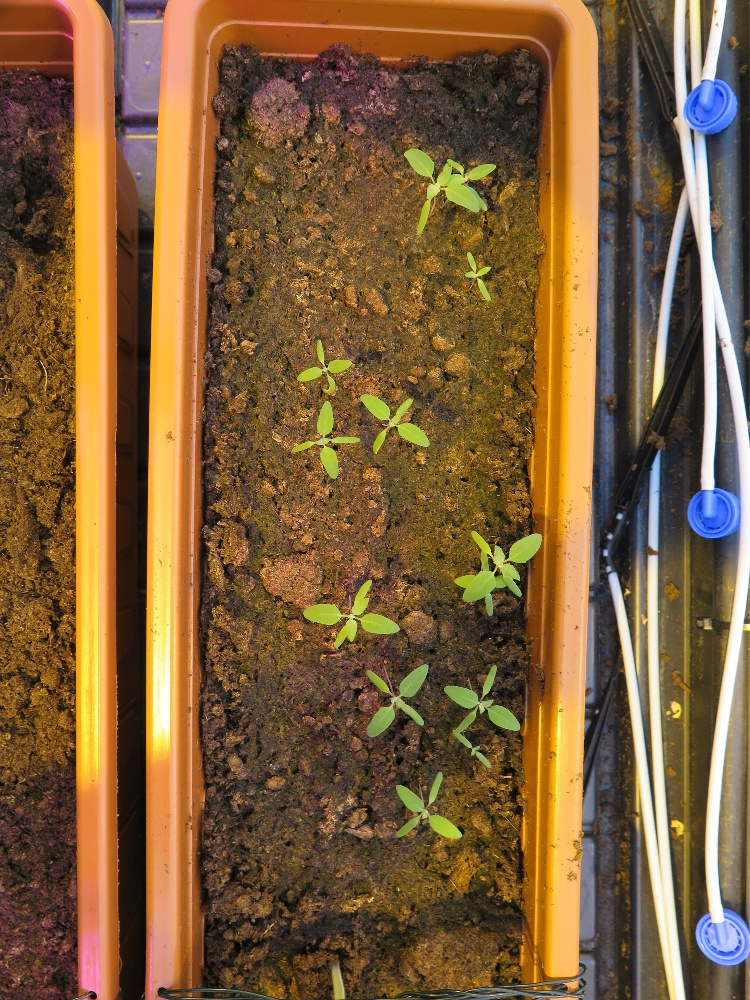weed: (397, 135, 505, 241), (450, 510, 547, 627), (297, 562, 406, 661), (446, 664, 522, 763), (290, 400, 359, 481), (364, 661, 429, 741), (359, 392, 430, 461), (394, 769, 462, 841), (296, 337, 352, 398), (464, 248, 493, 305)
